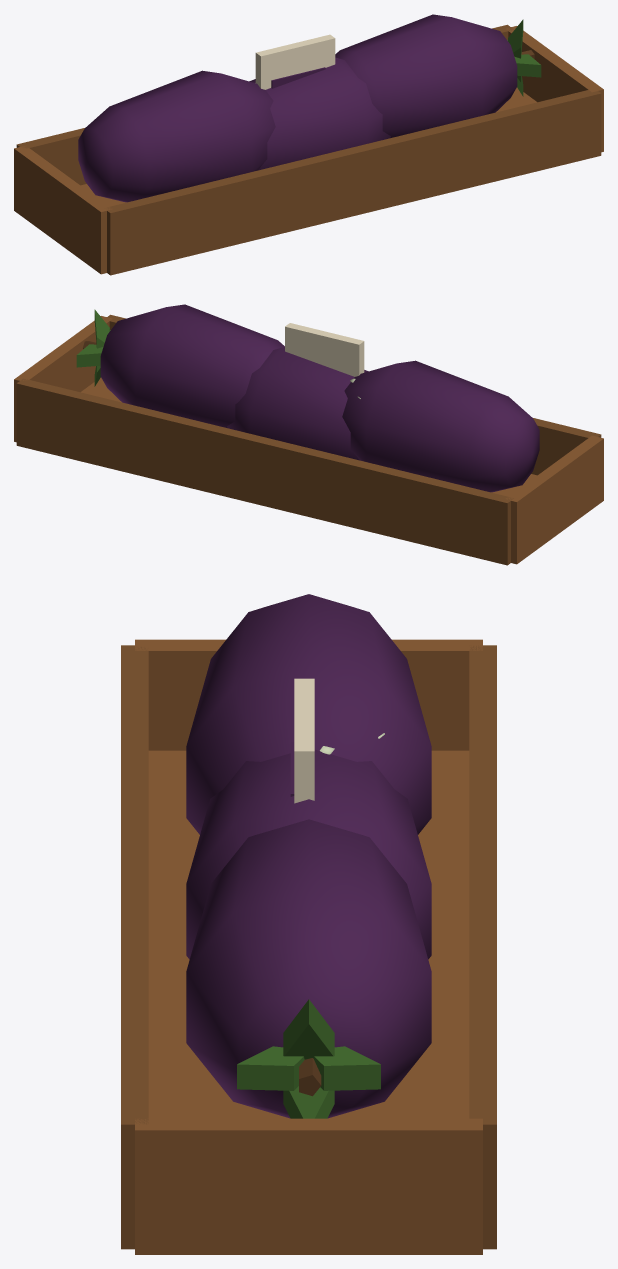
The model's file is Veg_Eggplant.fbx.
The picture shows the model from 3 angles, top to bottom: view 1: azimuth 30°, elevation 25°; view 2: azimuth 150°, elevation 25°; view 3: azimuth 270°, elevation 25°; orthographic projection. The views are drawn at different scales.
Parts seen in each view (by area): view 1: Veg_Eggplant__Stack, Veg_Eggplant, Veg_Eggplant__Seed; view 2: Veg_Eggplant__Stack, Veg_Eggplant, Veg_Eggplant__Seed; view 3: Veg_Eggplant__Stack, Veg_Eggplant, Veg_Eggplant__Seed.
Part boxes in pixels (<box>): Veg_Eggplant__Stack: <box>14,14,603,275</box>; Veg_Eggplant: <box>249,57,390,170</box>; Veg_Eggplant__Seed: <box>255,34,335,89</box>; Veg_Eggplant__Stack: <box>14,304,603,565</box>; Veg_Eggplant: <box>227,347,368,460</box>; Veg_Eggplant__Seed: <box>285,323,364,376</box>; Veg_Eggplant__Stack: <box>121,594,496,1254</box>; Veg_Eggplant: <box>186,749,431,959</box>; Veg_Eggplant__Seed: <box>290,678,314,803</box>.
Bounding box in the file's own units: 0.338 × 0.09 × 0.1093.
